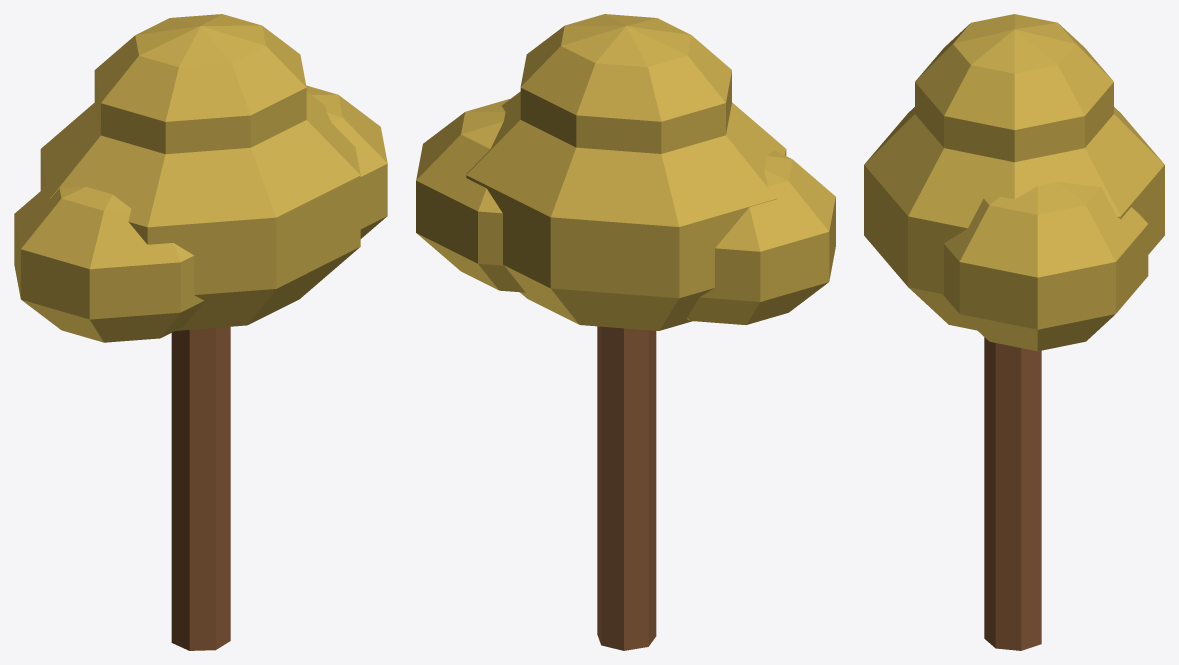
The model's file is tree_ornamental.glb.
3 views of the same model, side by side, from view 1: azimuth 30°, elevation 25°; view 2: azimuth 150°, elevation 25°; view 3: azimuth 270°, elevation 25° (orthographic).
Parts seen in each view (by area): view 1: rough; view 2: rough; view 3: rough.
Part boxes in pixels (x1=…): rough: x1=14, y1=14, x2=387, y2=650; rough: x1=416, y1=14, x2=835, y2=650; rough: x1=864, y1=14, x2=1164, y2=650.
Bounding box in the file's own units: 1.89 × 2.89 × 1.29.
